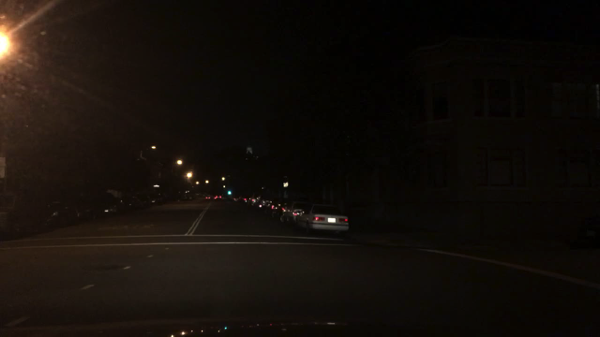car: (295, 201, 349, 238), (43, 202, 79, 227), (281, 199, 303, 226), (88, 200, 113, 217), (70, 202, 91, 220), (265, 198, 283, 219), (255, 193, 271, 211), (103, 197, 123, 211), (119, 198, 138, 208), (249, 192, 259, 206), (238, 194, 250, 205), (147, 196, 158, 206), (138, 197, 150, 206), (179, 193, 192, 200), (154, 195, 167, 202), (213, 193, 223, 201), (169, 194, 180, 200), (204, 195, 211, 201), (233, 196, 239, 202)
traffic light: (227, 191, 232, 195)
